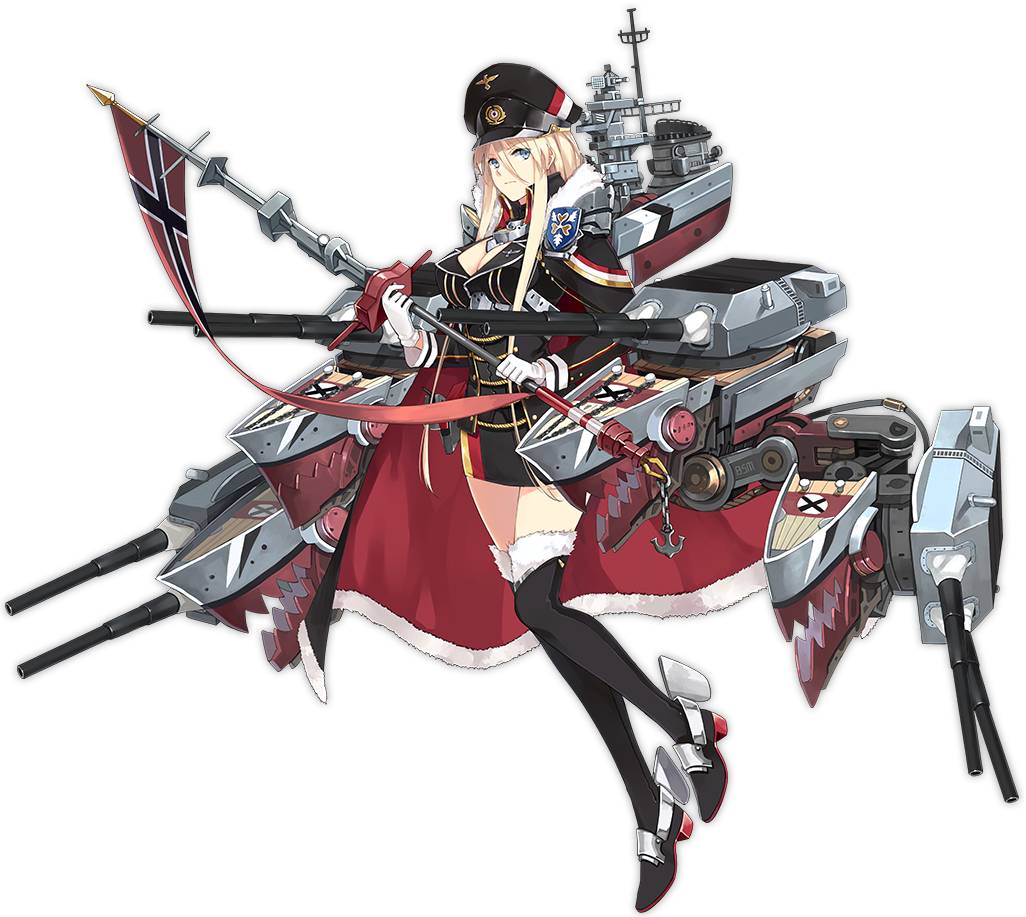person: (283, 57, 770, 733)
